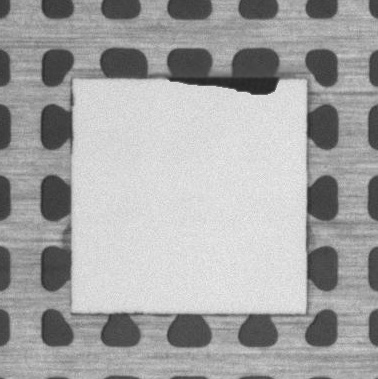DIE_BROKEN: (167, 71, 283, 97)
